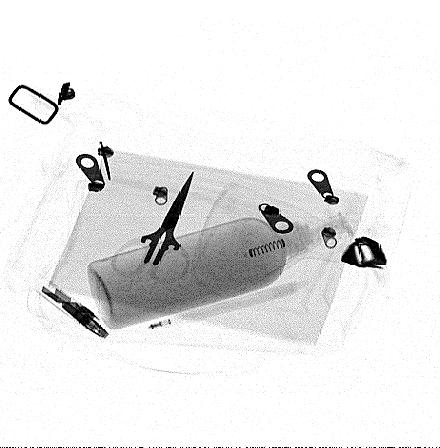Scissors: (109, 167, 195, 284)
